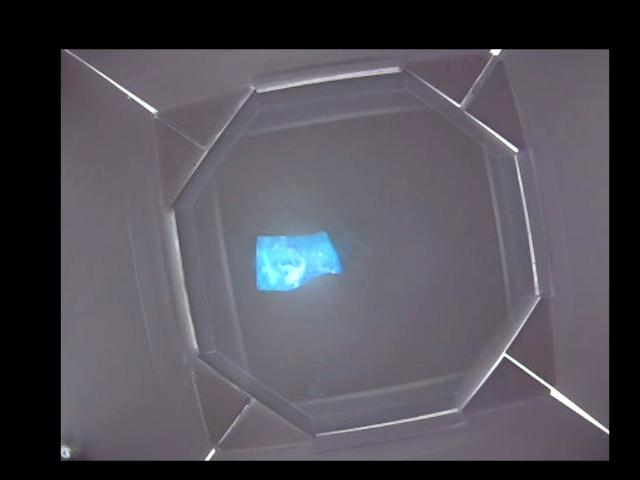Carrot: (255, 229, 342, 290)
